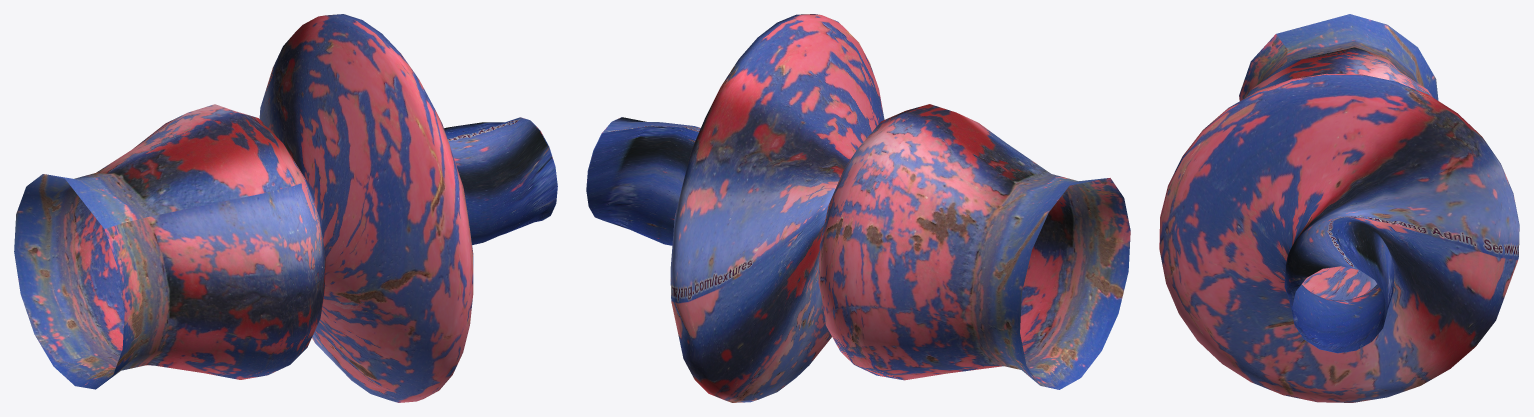
File: thing.obj
3 renders of one model, left to right at view 1: azimuth 30°, elevation 25°; view 2: azimuth 150°, elevation 25°; view 3: azimuth 270°, elevation 25°, orthographic. The views are drawn at different scales.
Parts seen in each view (by area): view 1: nurbsToPoly1; view 2: nurbsToPoly1; view 3: nurbsToPoly1.
Boxes of the visible parts, left/top/right/bottom form: nurbsToPoly1: left=14, top=14, right=557, bottom=402; nurbsToPoly1: left=586, top=14, right=1130, bottom=402; nurbsToPoly1: left=1159, top=14, right=1519, bottom=402.
Bounding box in the file's own units: 2.86 × 2.13 × 2.13.
Materials: 1 (1 with a texture image).
